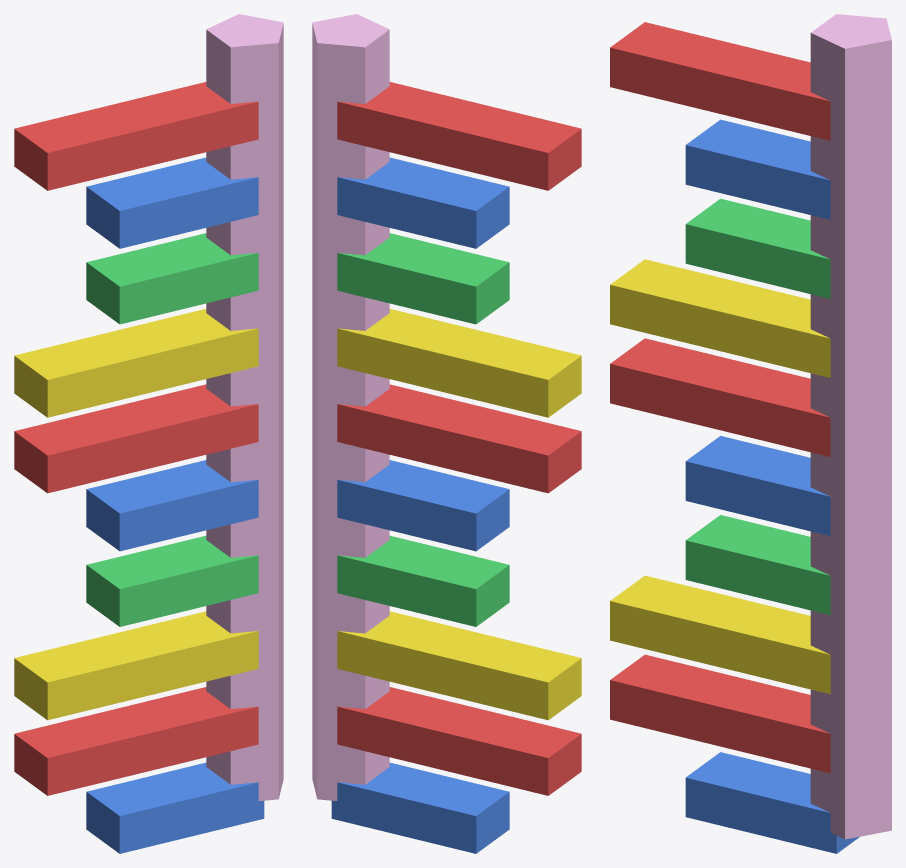
The model's file is Ext_R_Straight_2.fbx.
3 renders of one model, left to right at view 1: azimuth 30°, elevation 25°; view 2: azimuth 150°, elevation 25°; view 3: azimuth 330°, elevation 25°, orthographic. The views are drawn at different scales.
Visible parts, largest first — view 1: Ext_R_Straight_2; view 2: Ext_R_Straight_2; view 3: Ext_R_Straight_2.
Boxes of the visible parts, bbox=[...] form: Ext_R_Straight_2: bbox=[14, 14, 283, 853]; Ext_R_Straight_2: bbox=[312, 14, 581, 853]; Ext_R_Straight_2: bbox=[610, 14, 891, 853].
Size of the model in its own units: 0.035 by 0.1025 by 0.00951.
